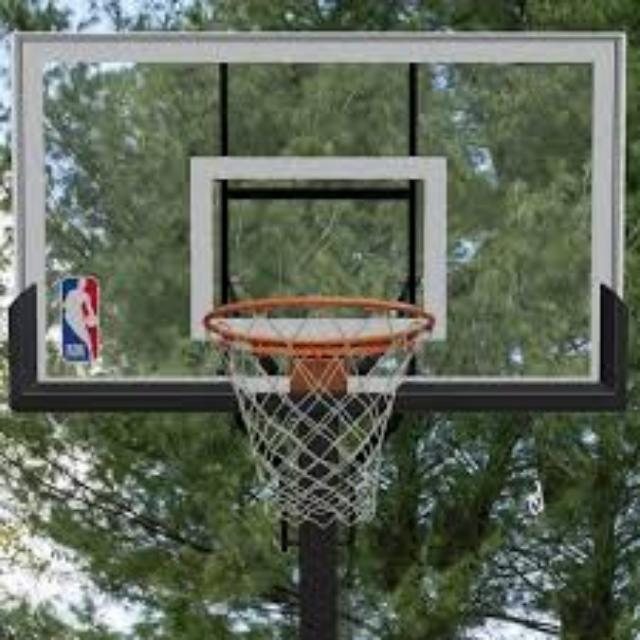rim: (204, 297, 436, 519)
